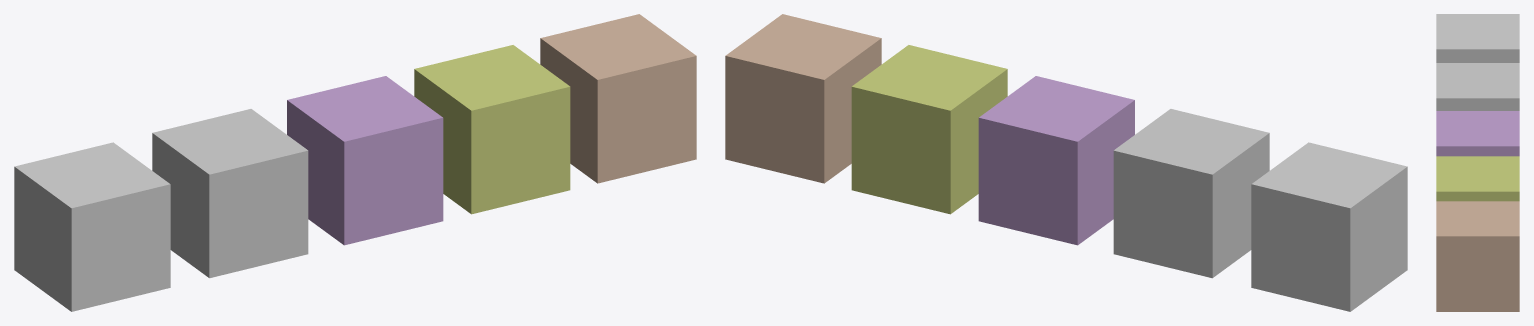
3 views of the same model, side by side, from view 1: azimuth 30°, elevation 25°; view 2: azimuth 150°, elevation 25°; view 3: azimuth 270°, elevation 25° (orthographic). The views are drawn at different scales.
Visible parts, largest first — view 1: Cube_002; view 2: Cube_002; view 3: Cube_002.
Boxes of the visible parts, <box> form: Cube_002: <box>14,14,696,311</box>; Cube_002: <box>725,14,1407,311</box>; Cube_002: <box>1436,14,1519,311</box>.
Size of the model in its own units: 12.63 by 2 by 2.
